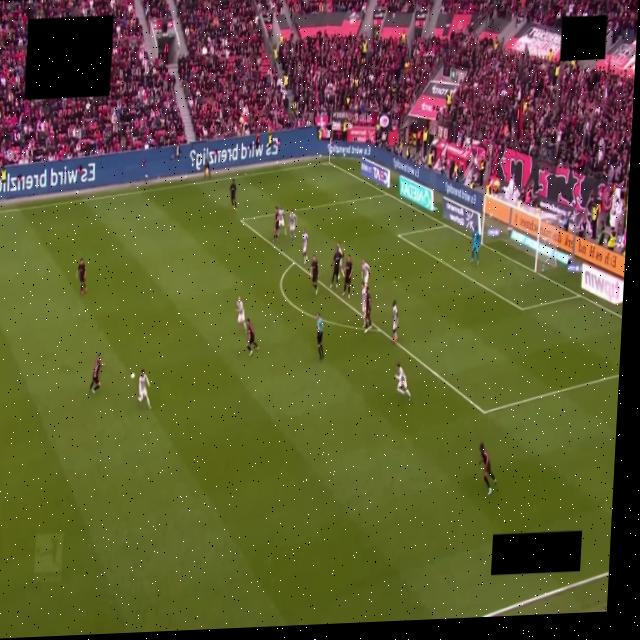ball: (131, 373, 136, 379)
player: (479, 443, 496, 495), (395, 363, 410, 401), (329, 245, 342, 288), (89, 354, 103, 393), (138, 370, 150, 408), (246, 319, 258, 355), (342, 256, 351, 298), (76, 259, 86, 295), (470, 229, 480, 265), (236, 297, 246, 331), (364, 287, 371, 333), (229, 178, 238, 212), (391, 301, 398, 343), (310, 256, 317, 295), (361, 260, 370, 285), (288, 210, 295, 242), (361, 283, 366, 327), (273, 206, 279, 242), (278, 208, 285, 235), (302, 229, 307, 265), (204, 153, 210, 178), (336, 242, 342, 255)
referee: (316, 314, 323, 359)
